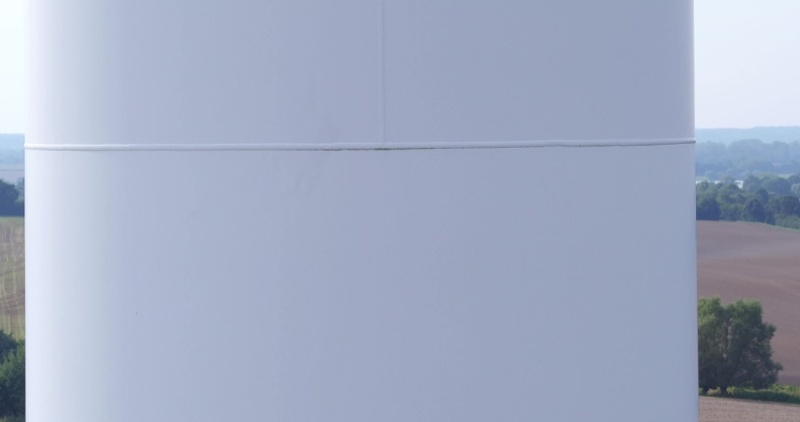weldseam: (23, 135, 697, 151), (374, 1, 392, 152)
